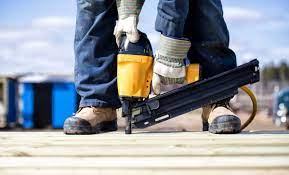Shoes: (64, 101, 115, 135), (202, 103, 249, 133)
gloves: (149, 32, 192, 96), (107, 3, 148, 47)
